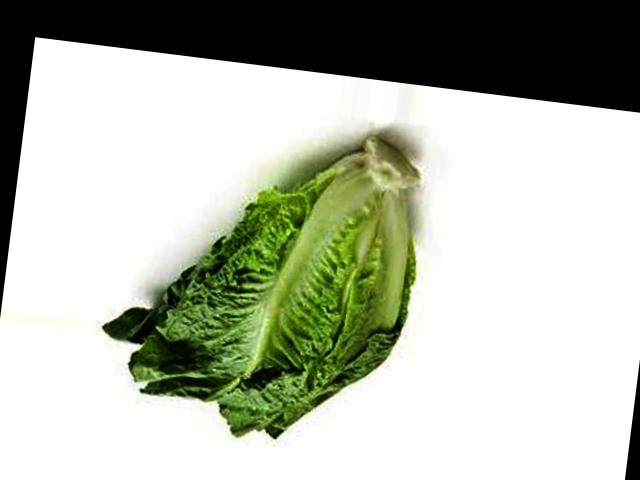lettuce: (423, 204, 546, 468)
